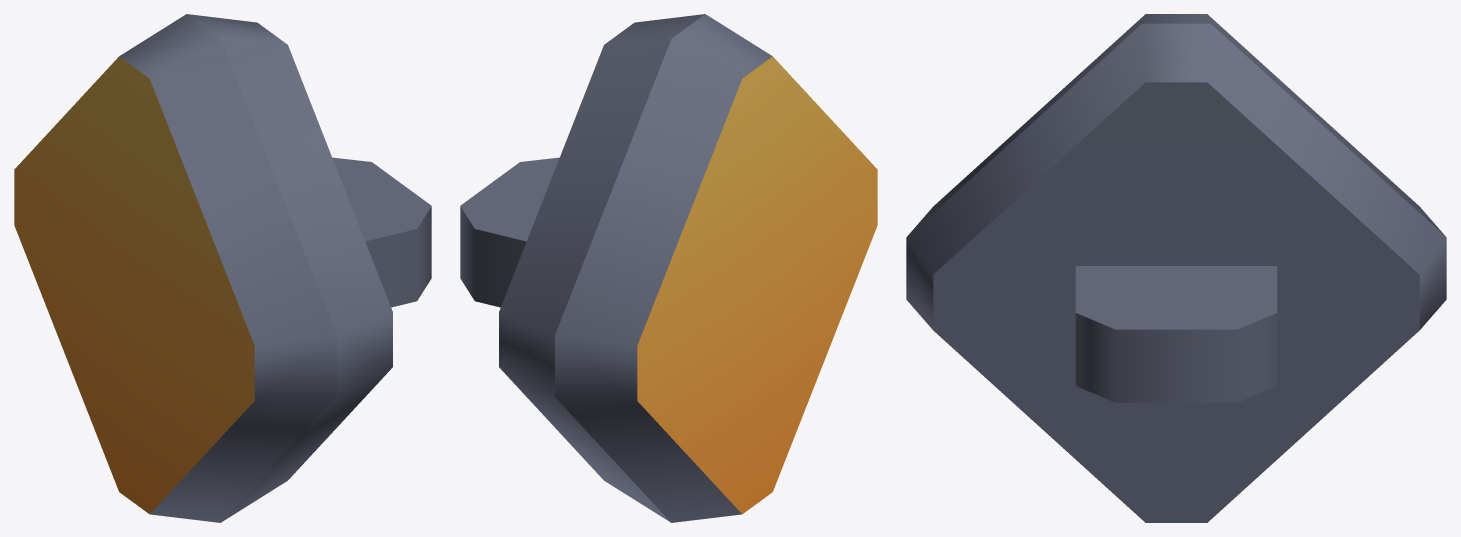
File: road-sign-object-warning.glb
3 views of the same model, side by side, from view 1: azimuth 30°, elevation 25°; view 2: azimuth 150°, elevation 25°; view 3: azimuth 270°, elevation 25° (orthographic).
Visible parts, largest first — view 1: road-sign-object-warning; view 2: road-sign-object-warning; view 3: road-sign-object-warning.
Part boxes in pixels (x1=…): road-sign-object-warning: x1=14, y1=14, x2=431, y2=522; road-sign-object-warning: x1=460, y1=14, x2=877, y2=522; road-sign-object-warning: x1=906, y1=14, x2=1446, y2=522.
Size of the model in its own units: 0.0774 by 0.1338 by 0.1338.
1 material, 1 textured.
